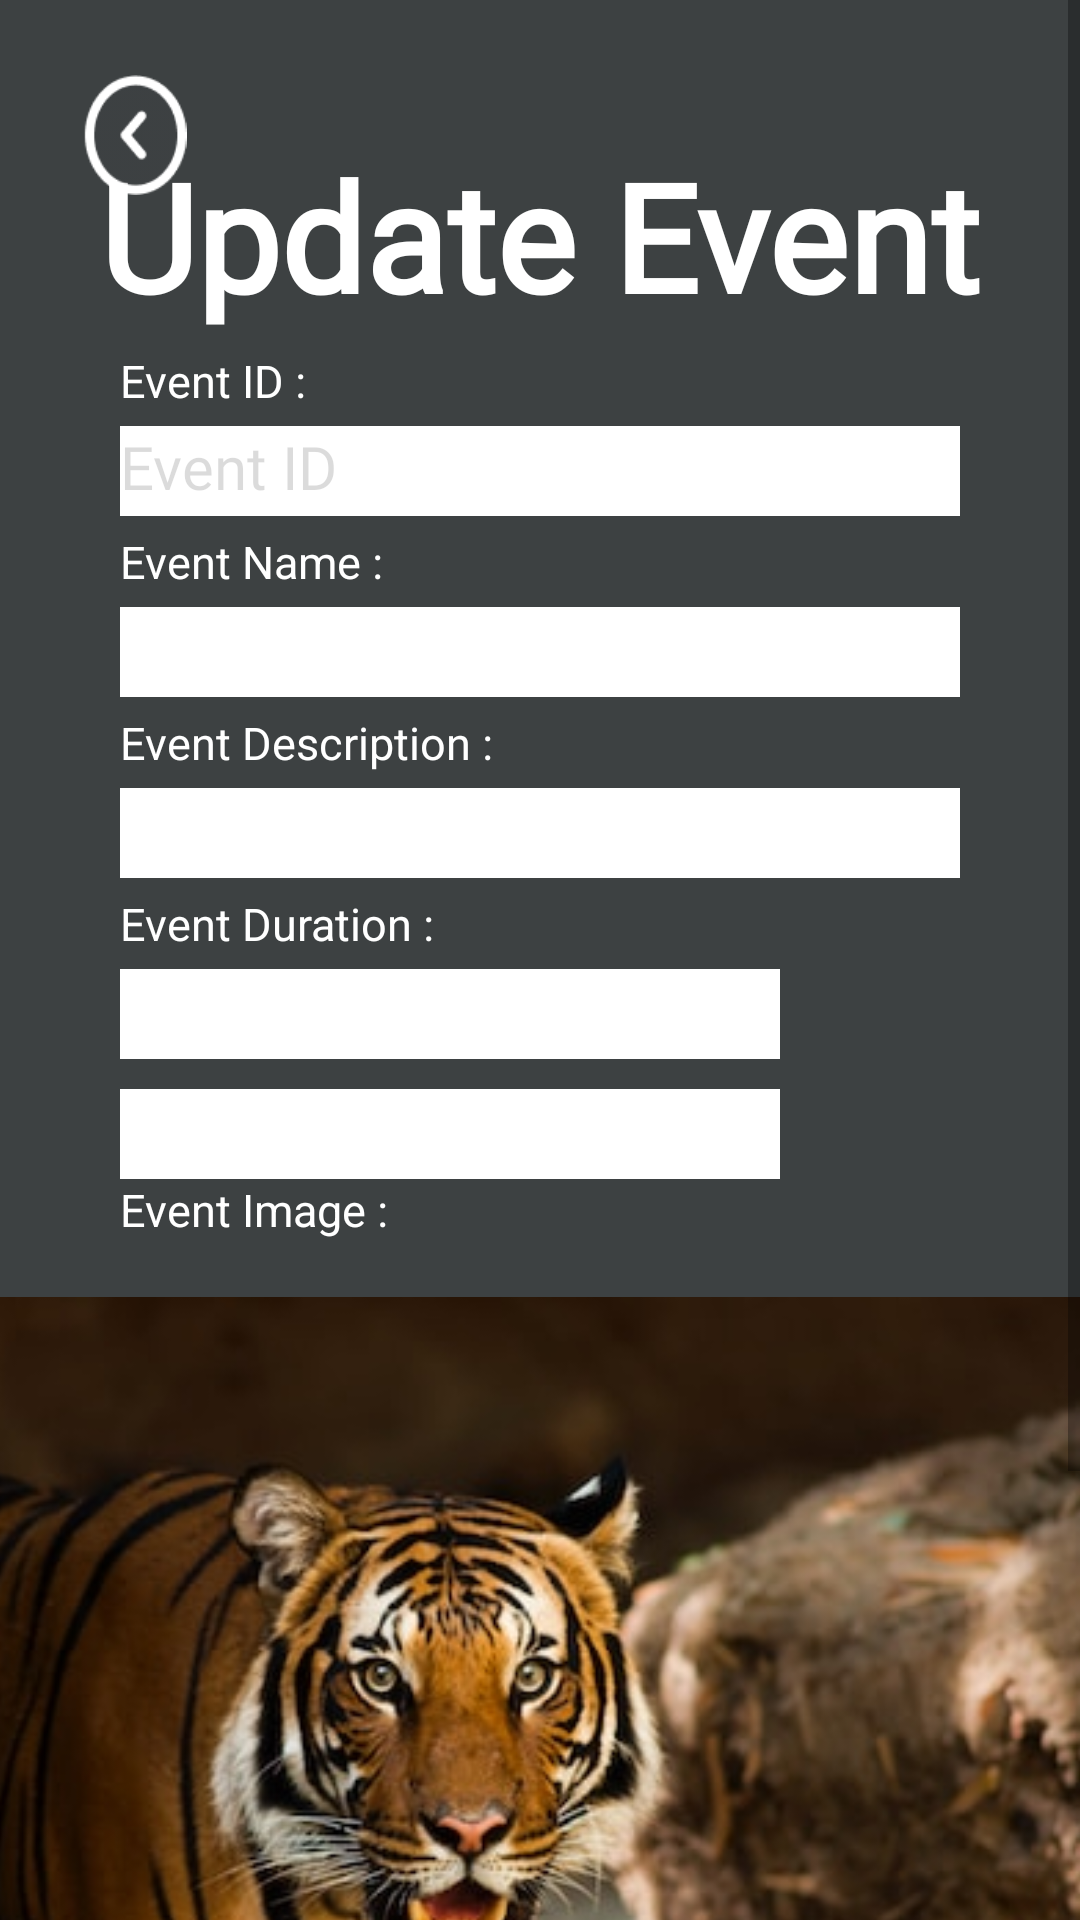

Named icons in this screenshot (1080×1920) and their centers, [x,y]:
back: [137,135]
